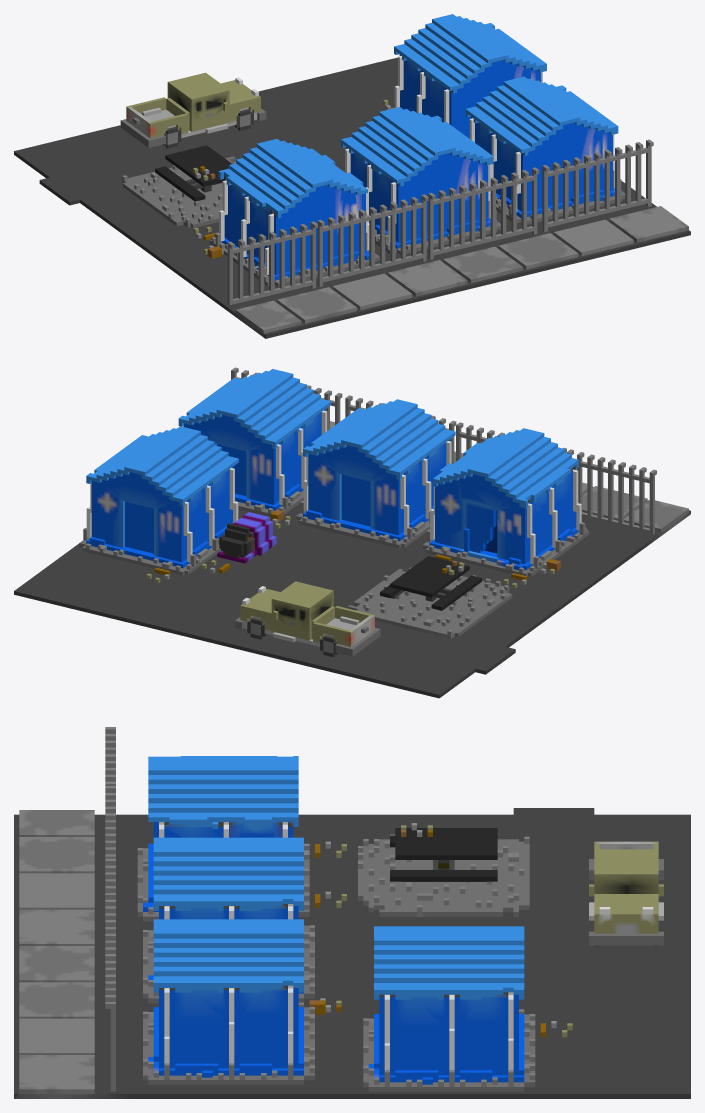
File: scene_city.dae
The picture shows the model from 3 angles, top to bottom: view 1: azimuth 30°, elevation 25°; view 2: azimuth 150°, elevation 25°; view 3: azimuth 270°, elevation 25°; orthographic projection. The views are drawn at different scales.
Visible parts, largest first — view 1: scene_city; view 2: scene_city; view 3: scene_city.
Boxes of the visible parts, box(x1,y1,x2,y2) form: scene_city: box(14, 14, 690, 338); scene_city: box(14, 367, 690, 698); scene_city: box(14, 727, 690, 1098).
Bounding box in the file's own units: 12.6 × 12.6 × 2.6.
